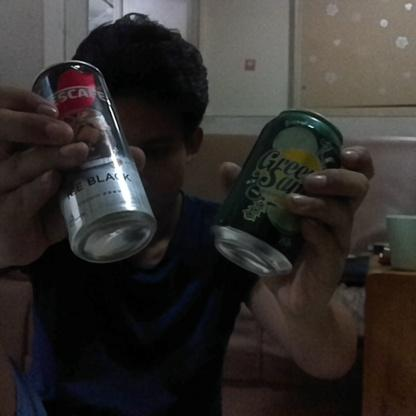alumunium_can: (32, 60, 156, 268), (215, 105, 345, 278)
